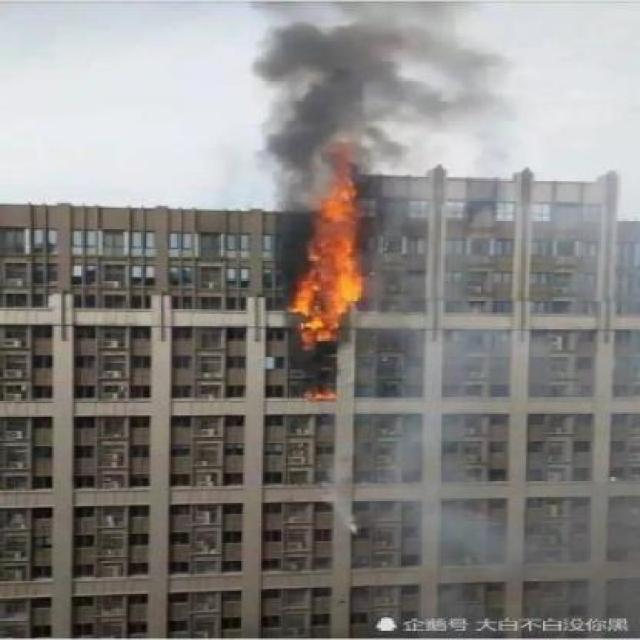Fire: (292, 157, 362, 350), (298, 386, 336, 400)
Smoke: (253, 2, 492, 173)
